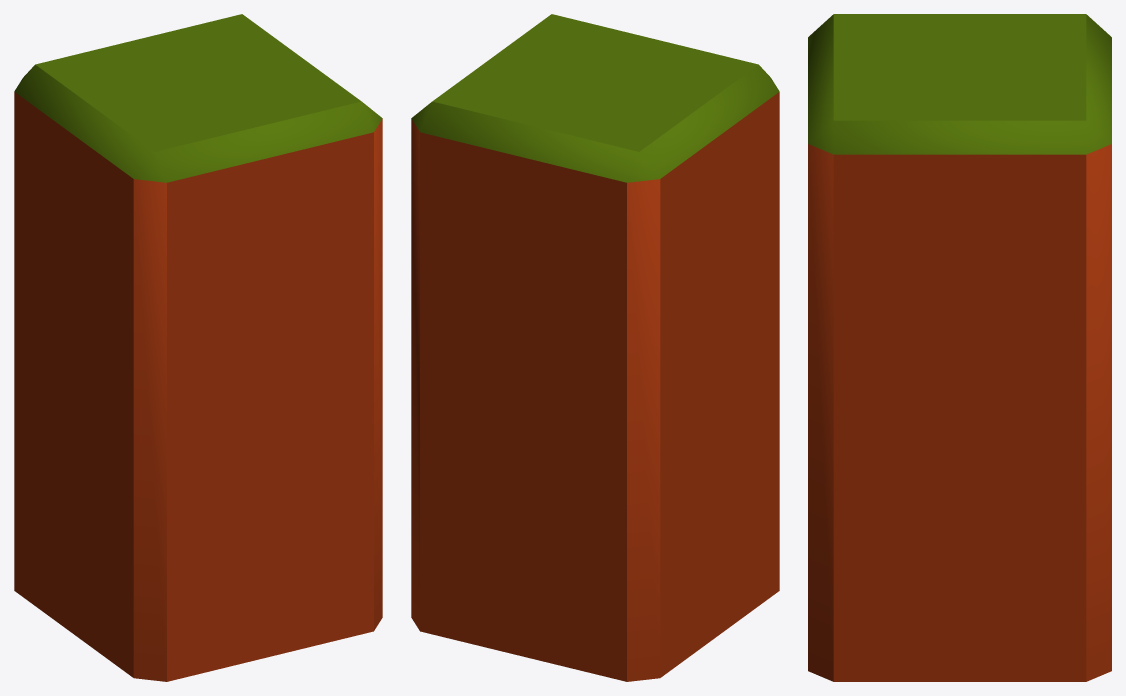
File: Ground_Height_Border01.fbx
3 views of the same model, side by side, from view 1: azimuth 30°, elevation 25°; view 2: azimuth 150°, elevation 25°; view 3: azimuth 270°, elevation 25° (orthographic). The views are drawn at different scales.
Parts seen in each view (by area): view 1: Ground_Height_Border; view 2: Ground_Height_Border; view 3: Ground_Height_Border.
Boxes of the visible parts, left/top/right/bottom form: Ground_Height_Border: left=14, top=14, right=382, bottom=681; Ground_Height_Border: left=411, top=14, right=779, bottom=681; Ground_Height_Border: left=808, top=14, right=1111, bottom=681.
Bounding box in the file's own units: 500 × 1000 × 500.
